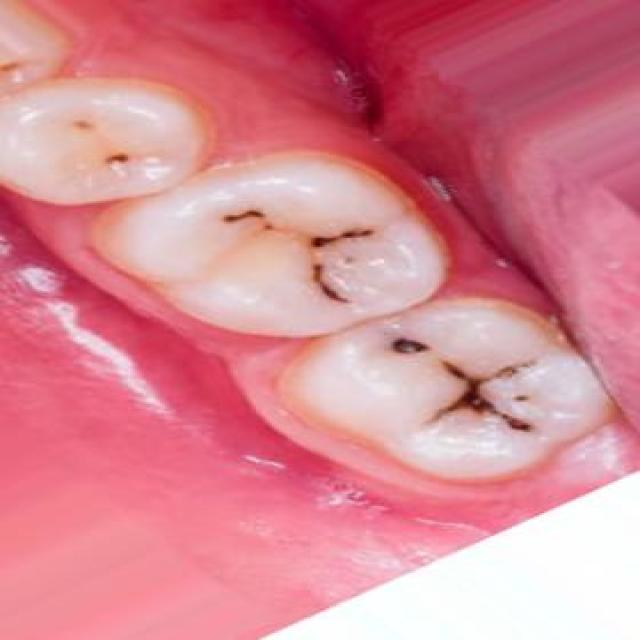caries: (375, 320, 561, 448), (217, 188, 399, 312), (51, 108, 161, 174)
